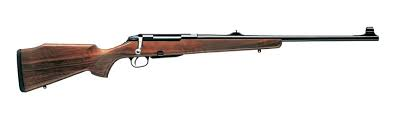gun: (15, 22, 380, 94)
